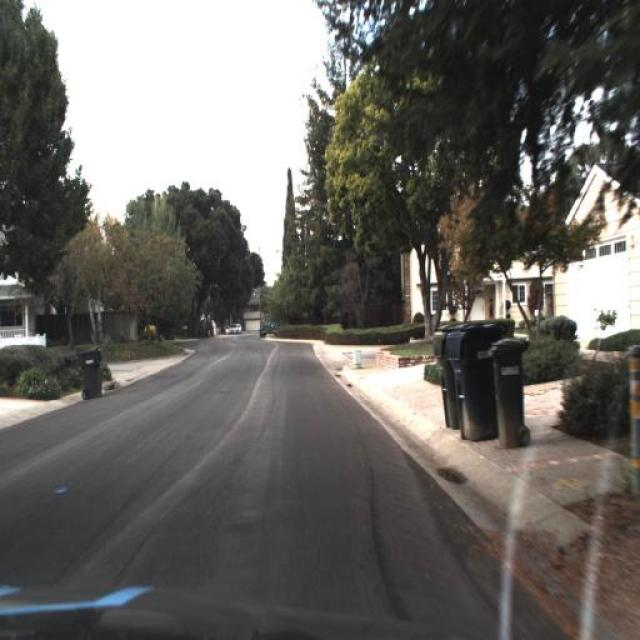car: (259, 310, 280, 340), (228, 324, 240, 335)
